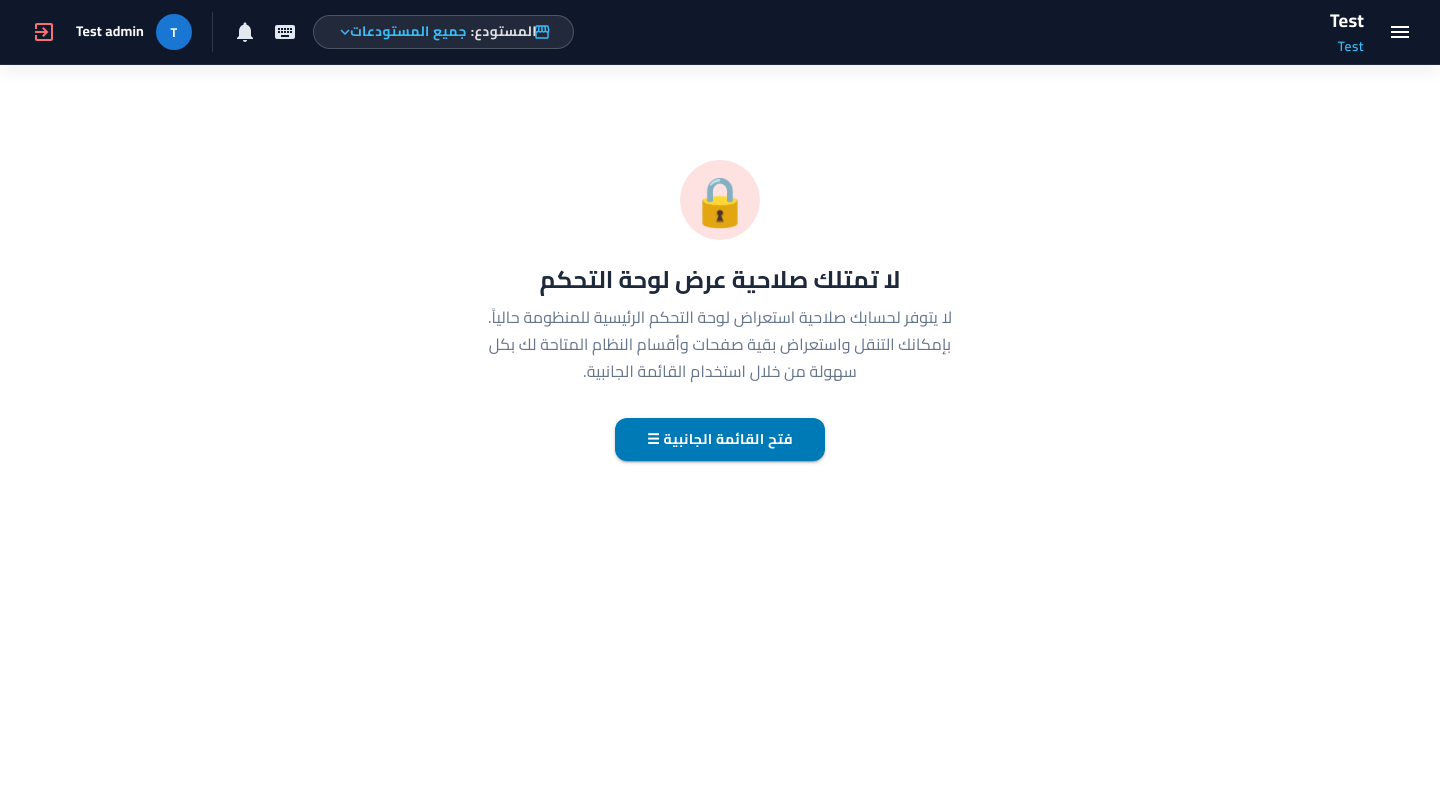
Test: Employee account form › blocks dashboard content without dashboard_view while keeping authorized warehouse navigation usable
The width and height of the screenshot is (1440, 810).
Expected: the heading "لا تمتلك صلاحية عرض لوحة التحكم" is shown, [540,264,900,296]
What coordinates should you click on to do the following:
click the button "فتح القائمة الجانبية ☰"
I would click on:
 (720, 439)
Its box is [615,418,825,461].
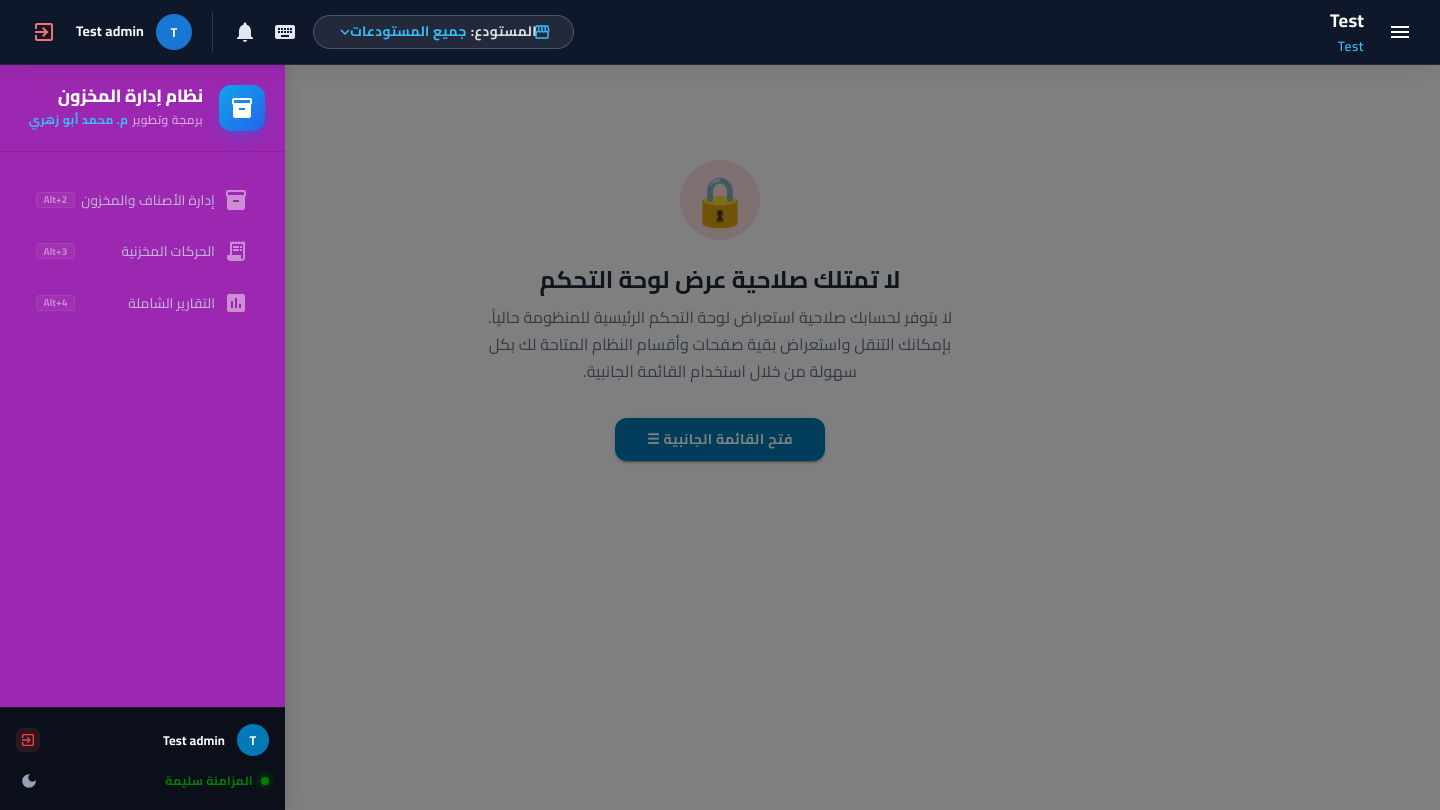
What coordinates should you click on to do the following:
click the button "إدارة الأصناف والمخزون Alt+2"
I would click on:
 (142, 200)
Its box is [36,187,248,213].
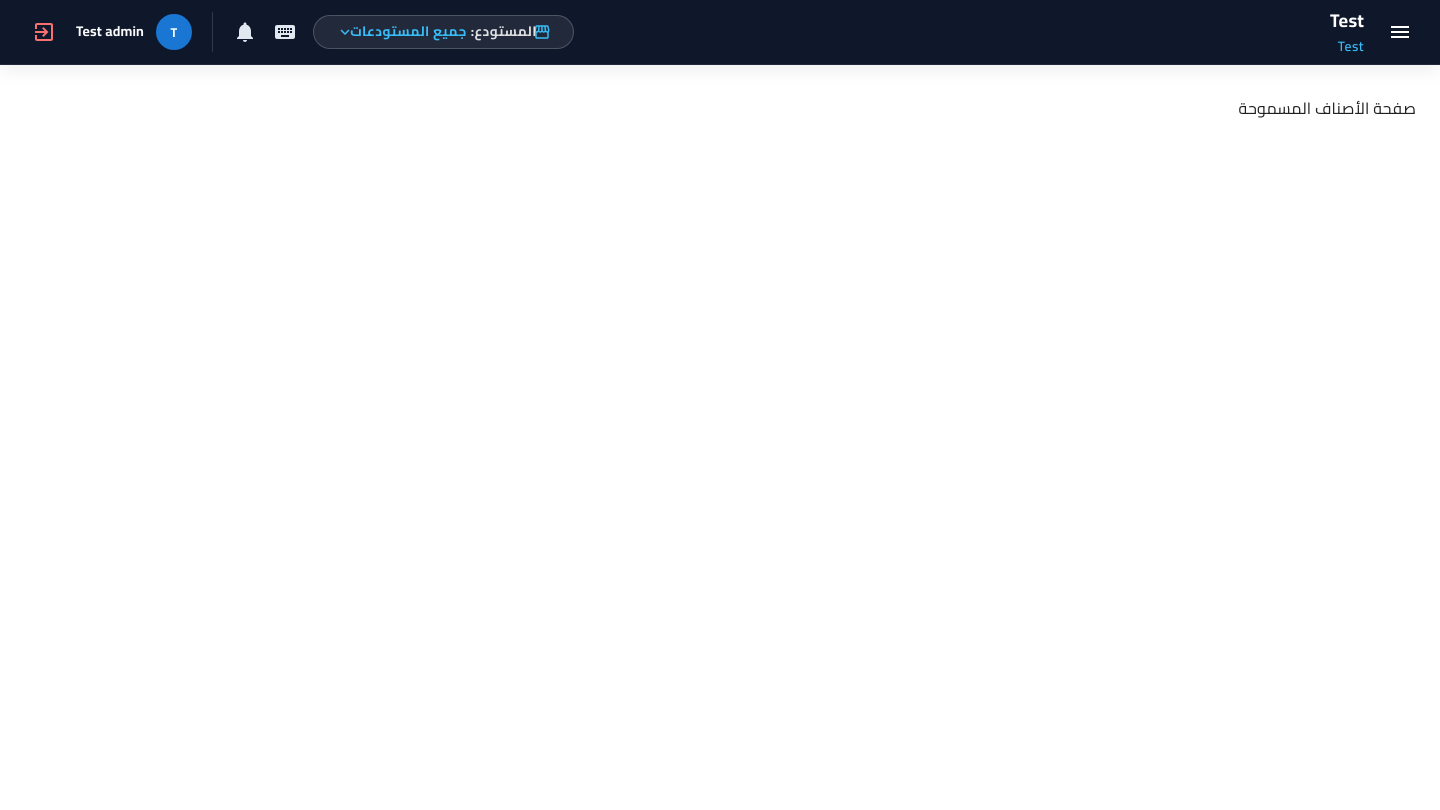
Result: the text "صفحة الأصناف المسموحة" is shown at [1239,93,1416,123]
